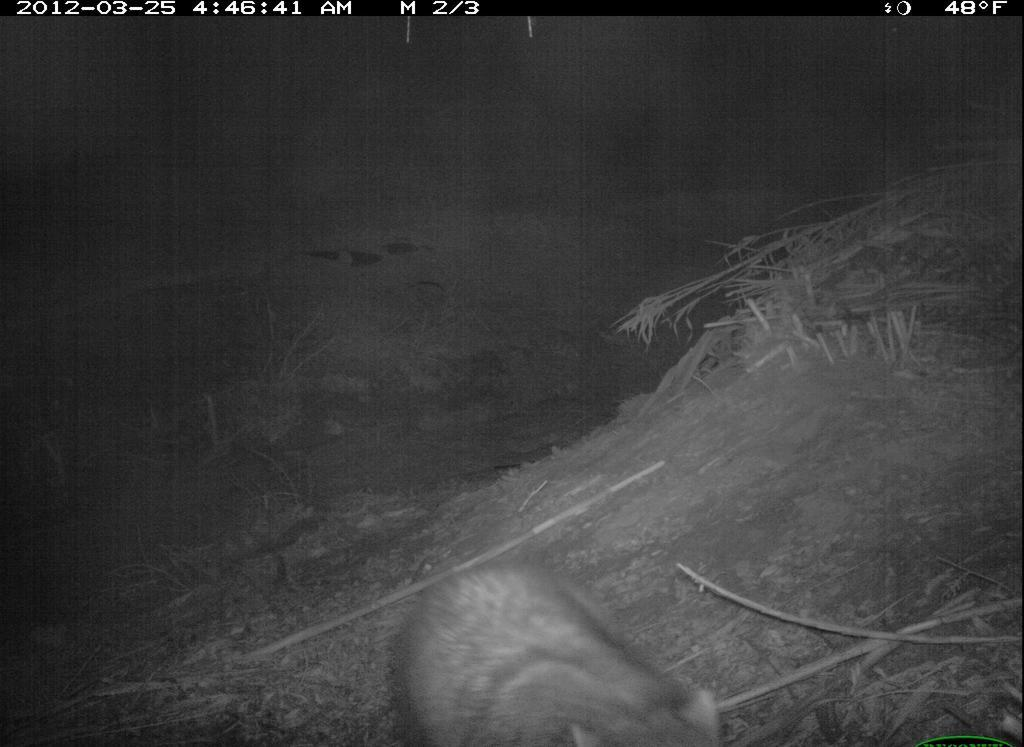raccoon: (392, 561, 726, 747)
